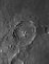crater: (3, 11, 42, 59)
